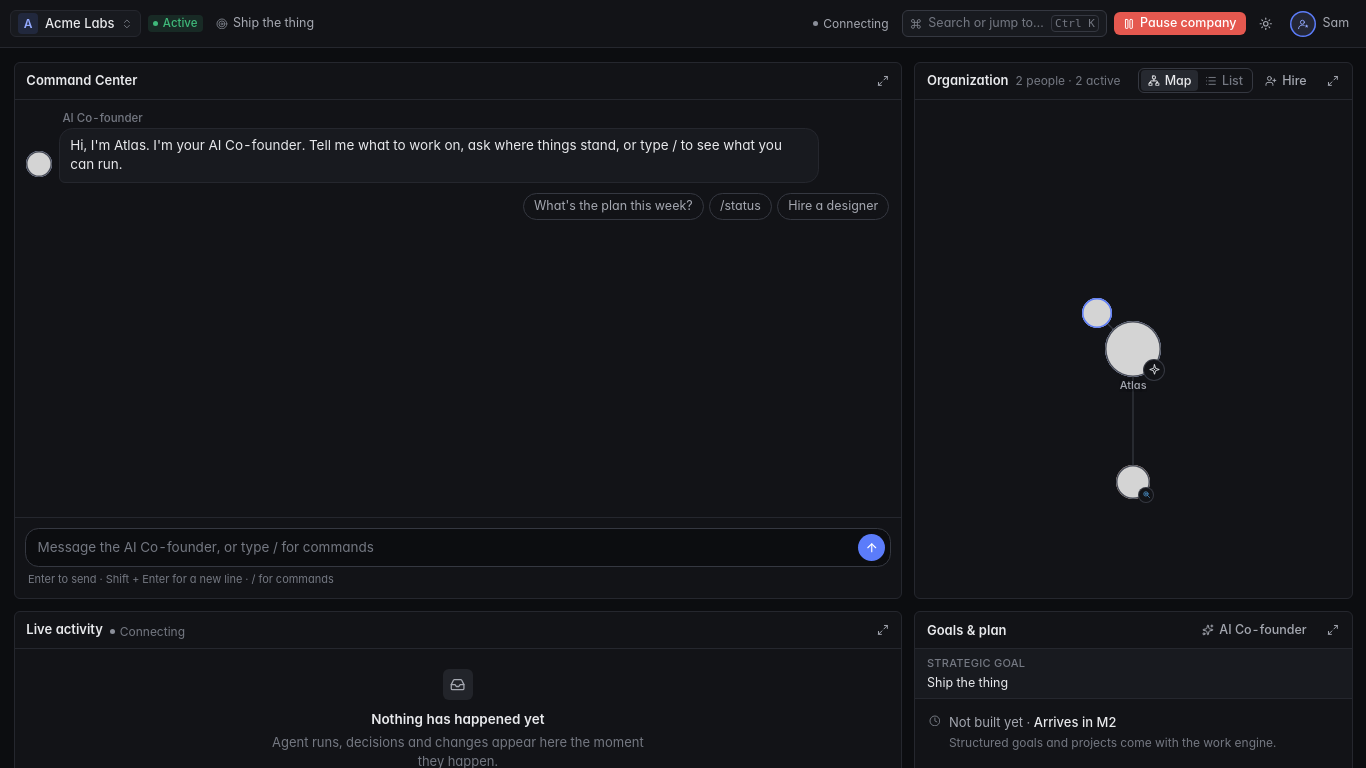
sending › plain Enter runs a one-line command, with its output right under it
This screenshot has width=1366, height=768.
Check: the element "Command Center" is shown, box [14, 62, 902, 599]
Step 1. Type "/status" into the dropdown named "Command or message for the AI Co-founder" → (444, 547), box [37, 539, 851, 556]
Then press Enter
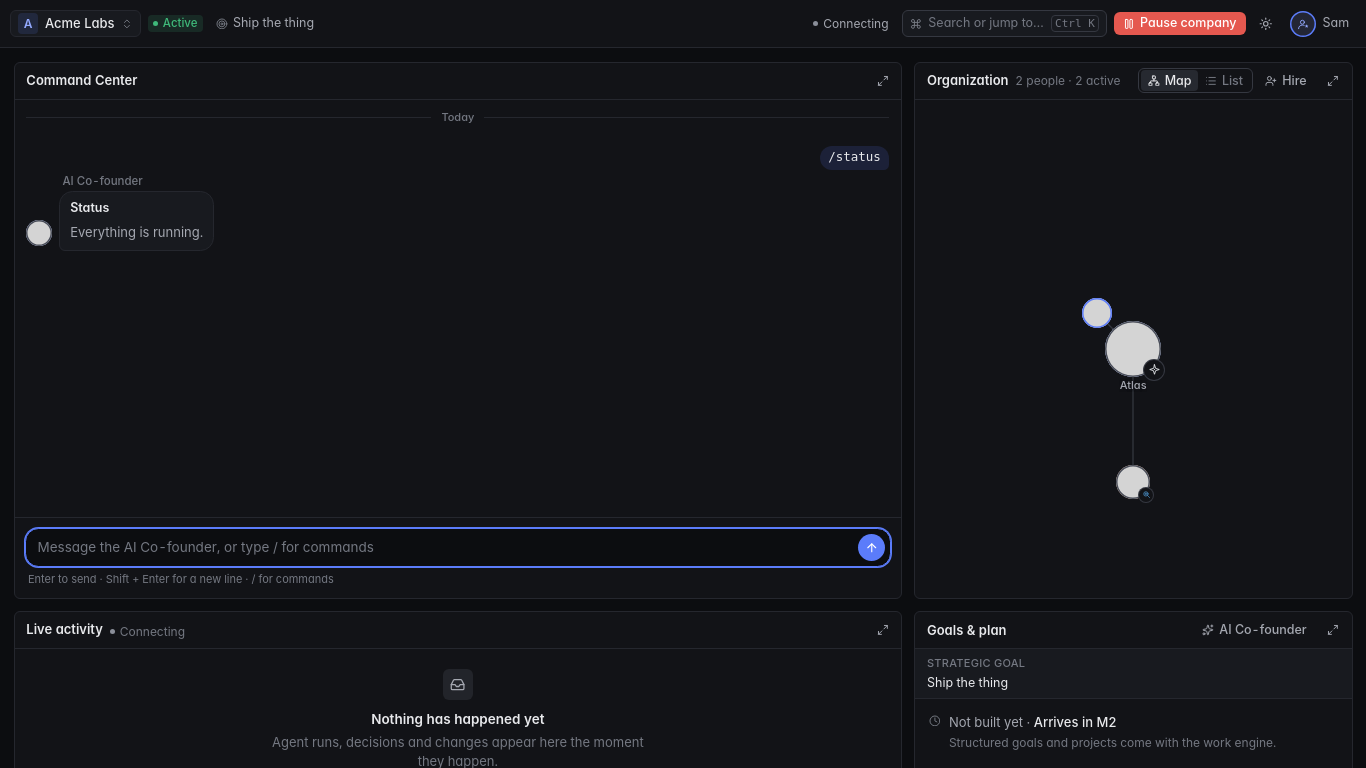
Check: the text "Everything is running." is shown, box [70, 222, 203, 243]
